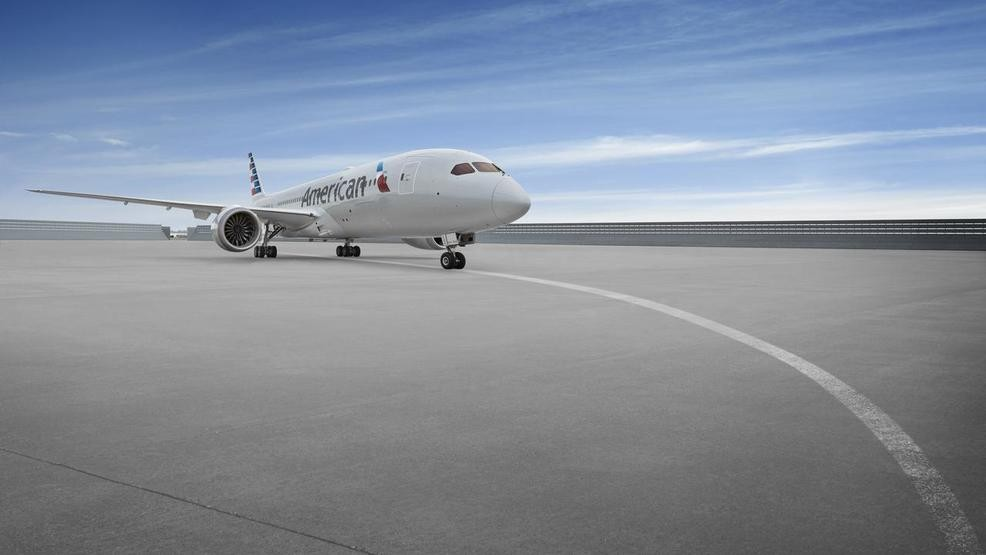plane: (23, 146, 536, 271)
